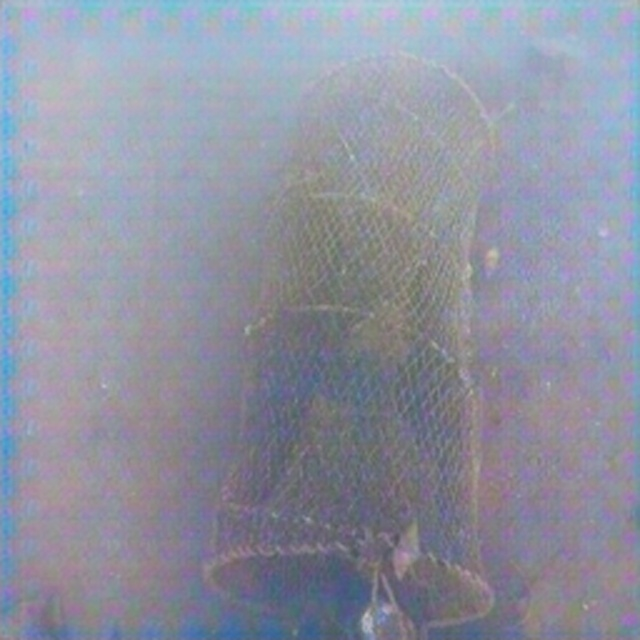mine: (199, 48, 495, 631)
